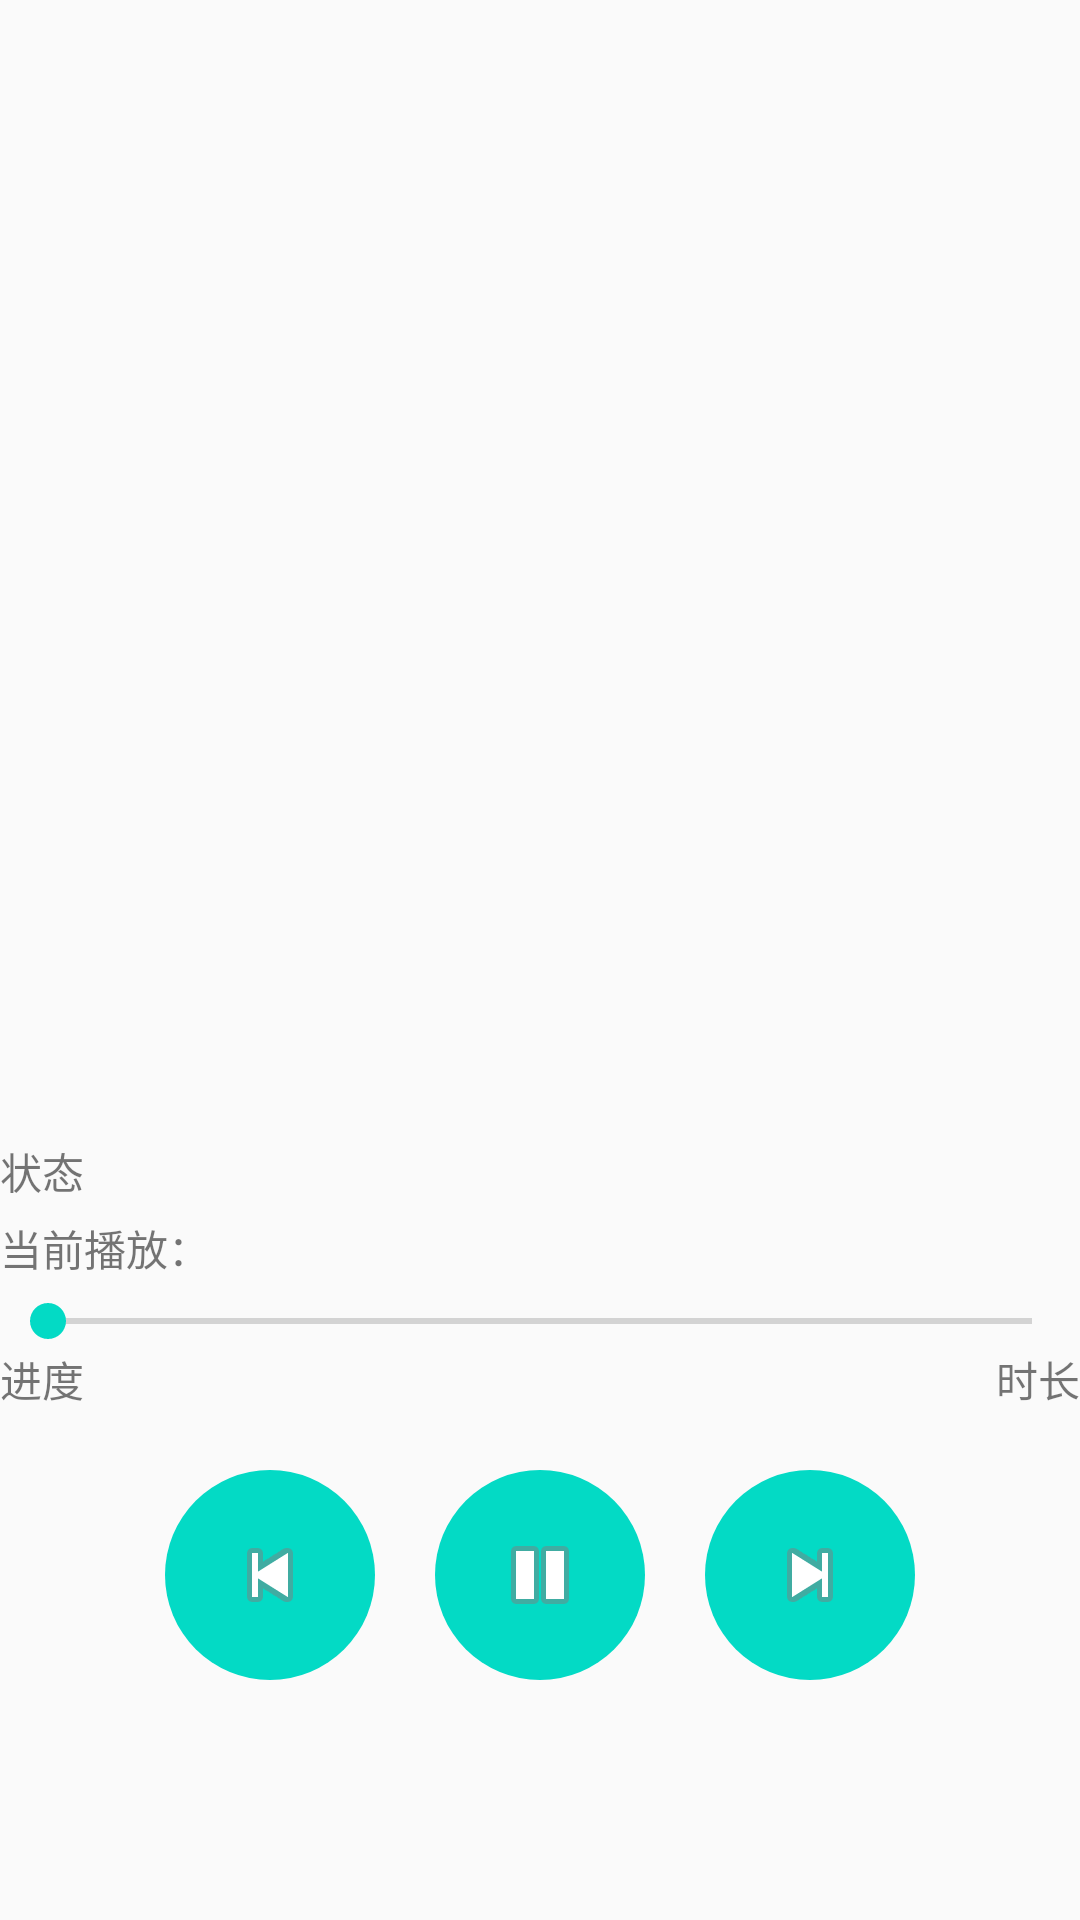

Point at icon controls on the screen. Image size 1080x1920, points as [x,y].
next: [810,1575]
pause: [540,1575]
previous: [270,1575]
